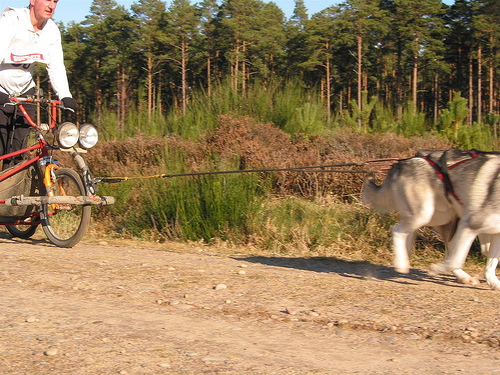dog: (363, 153, 499, 290)
